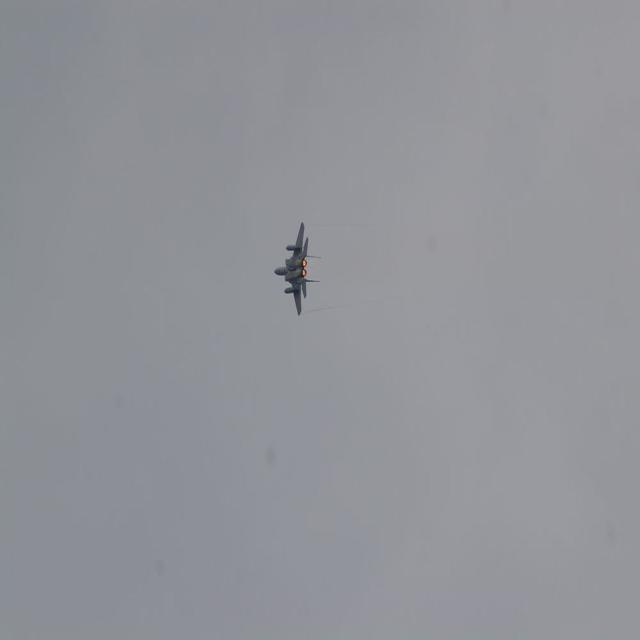MIL_Plane: (274, 222, 322, 316)
